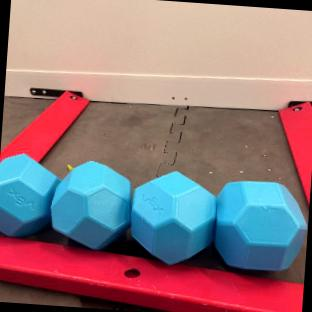V5_BLUE: (214, 181, 305, 270), (131, 171, 214, 263), (50, 161, 130, 248), (0, 154, 57, 236)
